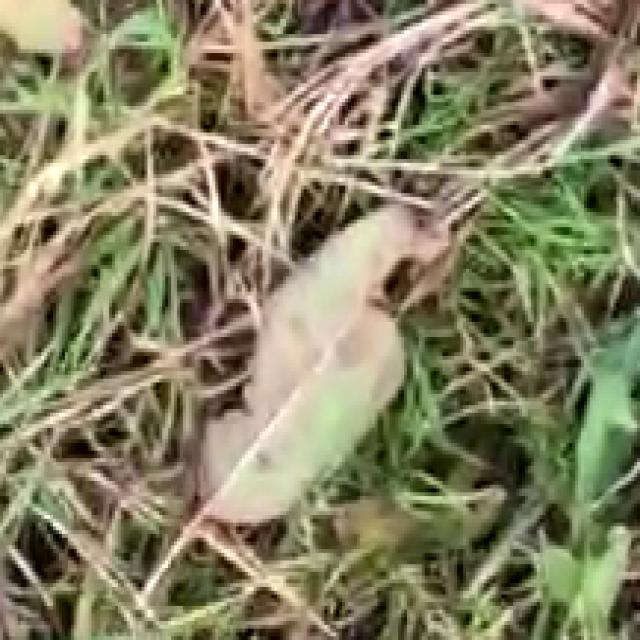organic waste: (168, 121, 478, 538)
